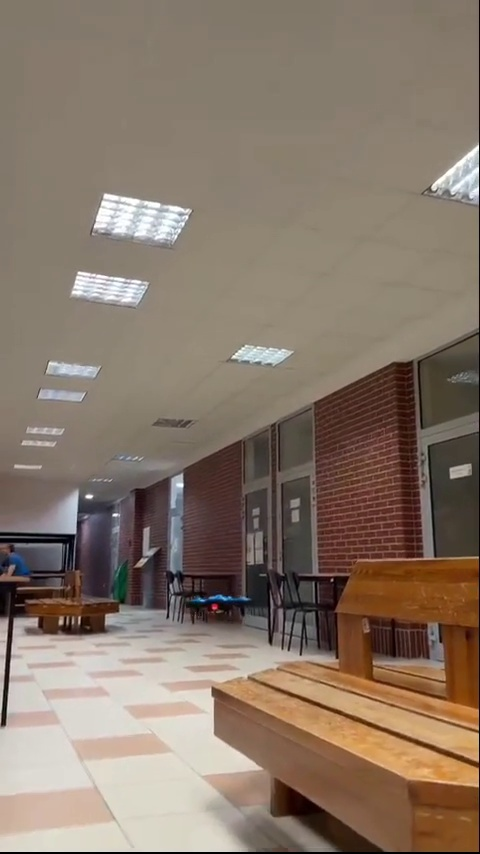drone: (185, 587, 255, 628)
no vest: (0, 542, 33, 592)
